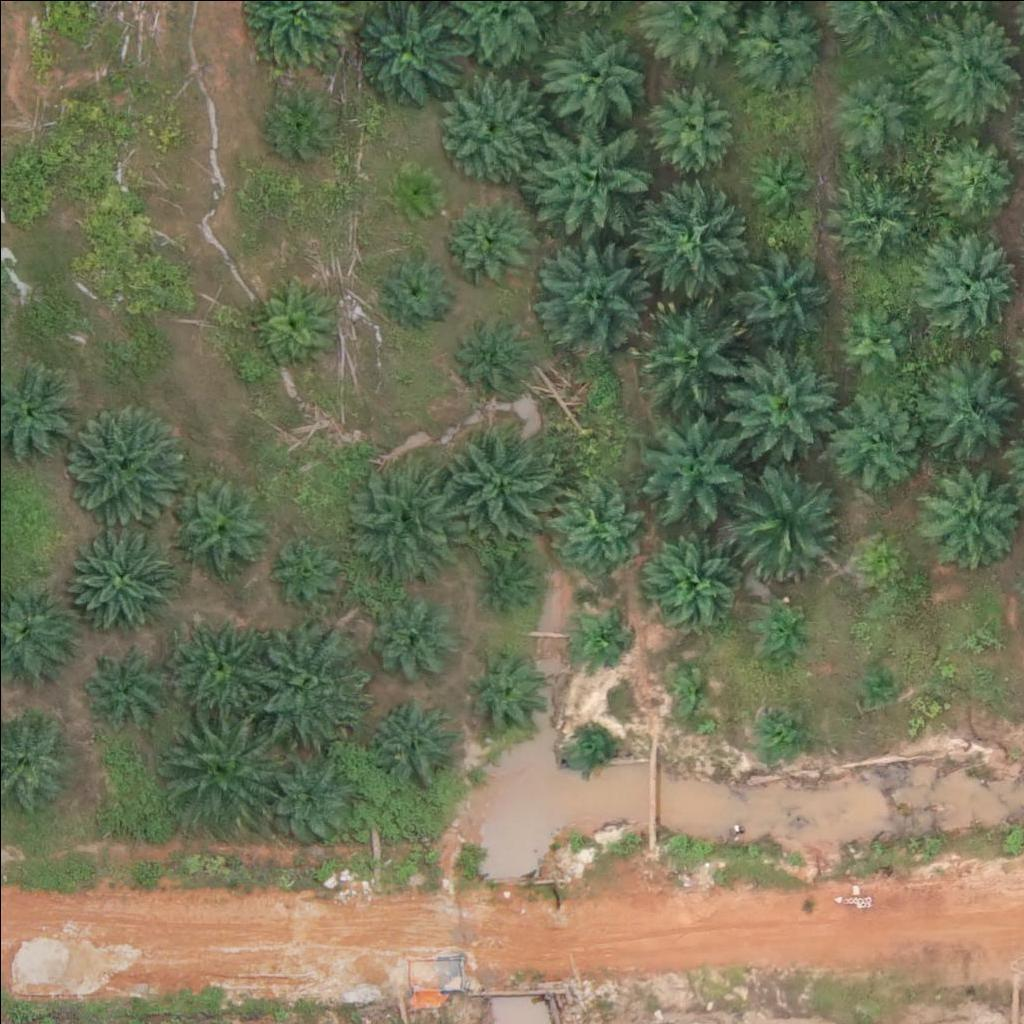Kelapa_Sawit: (71, 403, 184, 517), (345, 454, 458, 568), (440, 432, 553, 545), (537, 116, 650, 229), (641, 408, 754, 521), (628, 175, 741, 288), (732, 468, 845, 581), (727, 336, 840, 449), (540, 241, 652, 355), (61, 518, 173, 631), (164, 705, 276, 818), (254, 626, 366, 739), (437, 66, 549, 179), (631, 291, 743, 404), (170, 619, 270, 720), (264, 752, 364, 853), (544, 28, 644, 129), (734, 241, 834, 342), (917, 457, 1017, 558), (169, 478, 269, 578), (638, 529, 738, 629), (825, 163, 925, 263), (823, 388, 923, 488), (916, 351, 1016, 451), (923, 231, 1023, 331), (646, 82, 734, 170), (371, 693, 458, 782), (77, 641, 164, 729), (264, 524, 351, 612), (371, 595, 458, 683), (555, 491, 642, 579), (461, 647, 548, 735), (251, 274, 338, 362), (927, 132, 1014, 220), (829, 72, 916, 160), (446, 200, 521, 276), (379, 248, 454, 324), (455, 323, 530, 398), (836, 306, 911, 381), (262, 87, 337, 162), (748, 152, 811, 215), (576, 615, 626, 666), (393, 166, 443, 216), (569, 726, 619, 776), (478, 557, 528, 607), (666, 663, 716, 713), (758, 709, 808, 759), (763, 606, 813, 656), (861, 660, 899, 698), (872, 542, 909, 579), (971, 625, 996, 651)
